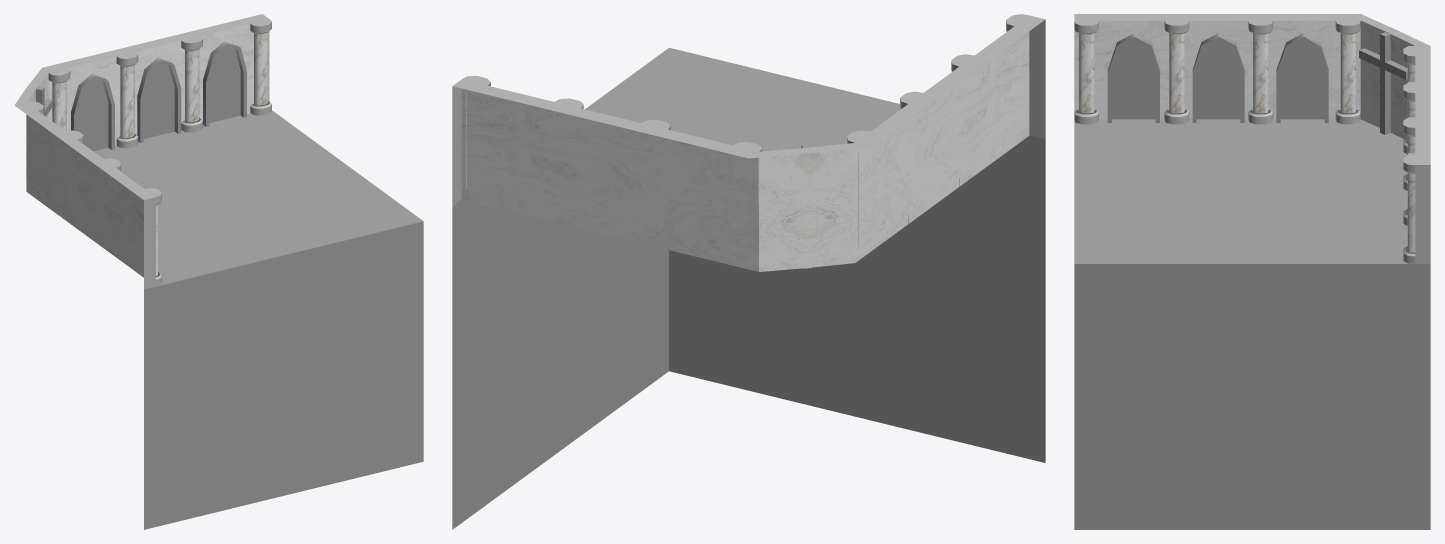
The model's file is Bones n Books 1.fbx.
3 views of the same model, side by side, from view 1: azimuth 30°, elevation 25°; view 2: azimuth 150°, elevation 25°; view 3: azimuth 270°, elevation 25° (orthographic). The views are drawn at different scales.
Visible parts, largest first — view 1: polySurface1, polySurface2, Arch_Group2, PillarR2, PillarR3, PillarR4, PillarR1; view 2: polySurface1, polySurface2; view 3: polySurface1, polySurface2, Arch_Group1, PillarL3, PillarL4, PillarL2, PillarL1, pCube17, PillarR4, PillarR3, PillarR1, PillarR2.
Boxes of the visible parts, x1,y1,x2,y2 form: polySurface1: (93, 110, 423, 529); polySurface2: (14, 14, 269, 289); Arch_Group2: (71, 41, 246, 151); PillarR2: (116, 51, 138, 148); PillarR3: (181, 36, 202, 132); PillarR4: (250, 19, 271, 115); PillarR1: (48, 68, 70, 131); polySurface1: (452, 47, 1045, 529); polySurface2: (452, 15, 1045, 271); polySurface1: (1074, 119, 1430, 529); polySurface2: (1074, 14, 1430, 263); Arch_Group1: (1107, 33, 1328, 122); PillarL3: (1248, 20, 1273, 124); PillarL4: (1335, 20, 1360, 124); PillarL2: (1164, 20, 1189, 124); PillarL1: (1074, 20, 1098, 124); pCube17: (1359, 32, 1407, 134); PillarR4: (1403, 154, 1415, 263); PillarR3: (1403, 117, 1415, 225); PillarR1: (1403, 45, 1415, 154); PillarR2: (1403, 82, 1415, 190).
Bounding box in the file's own units: 6.54 × 7.37 × 6.52.
3 materials, 2 textured.
